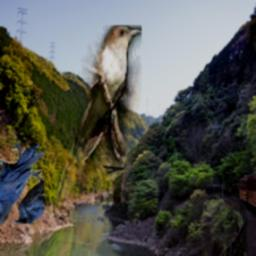Crow: (0, 143, 44, 225)
Cuckoo: (56, 26, 140, 203)
